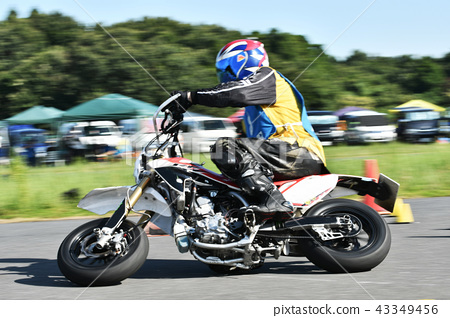helmet: (213, 39, 271, 89)
